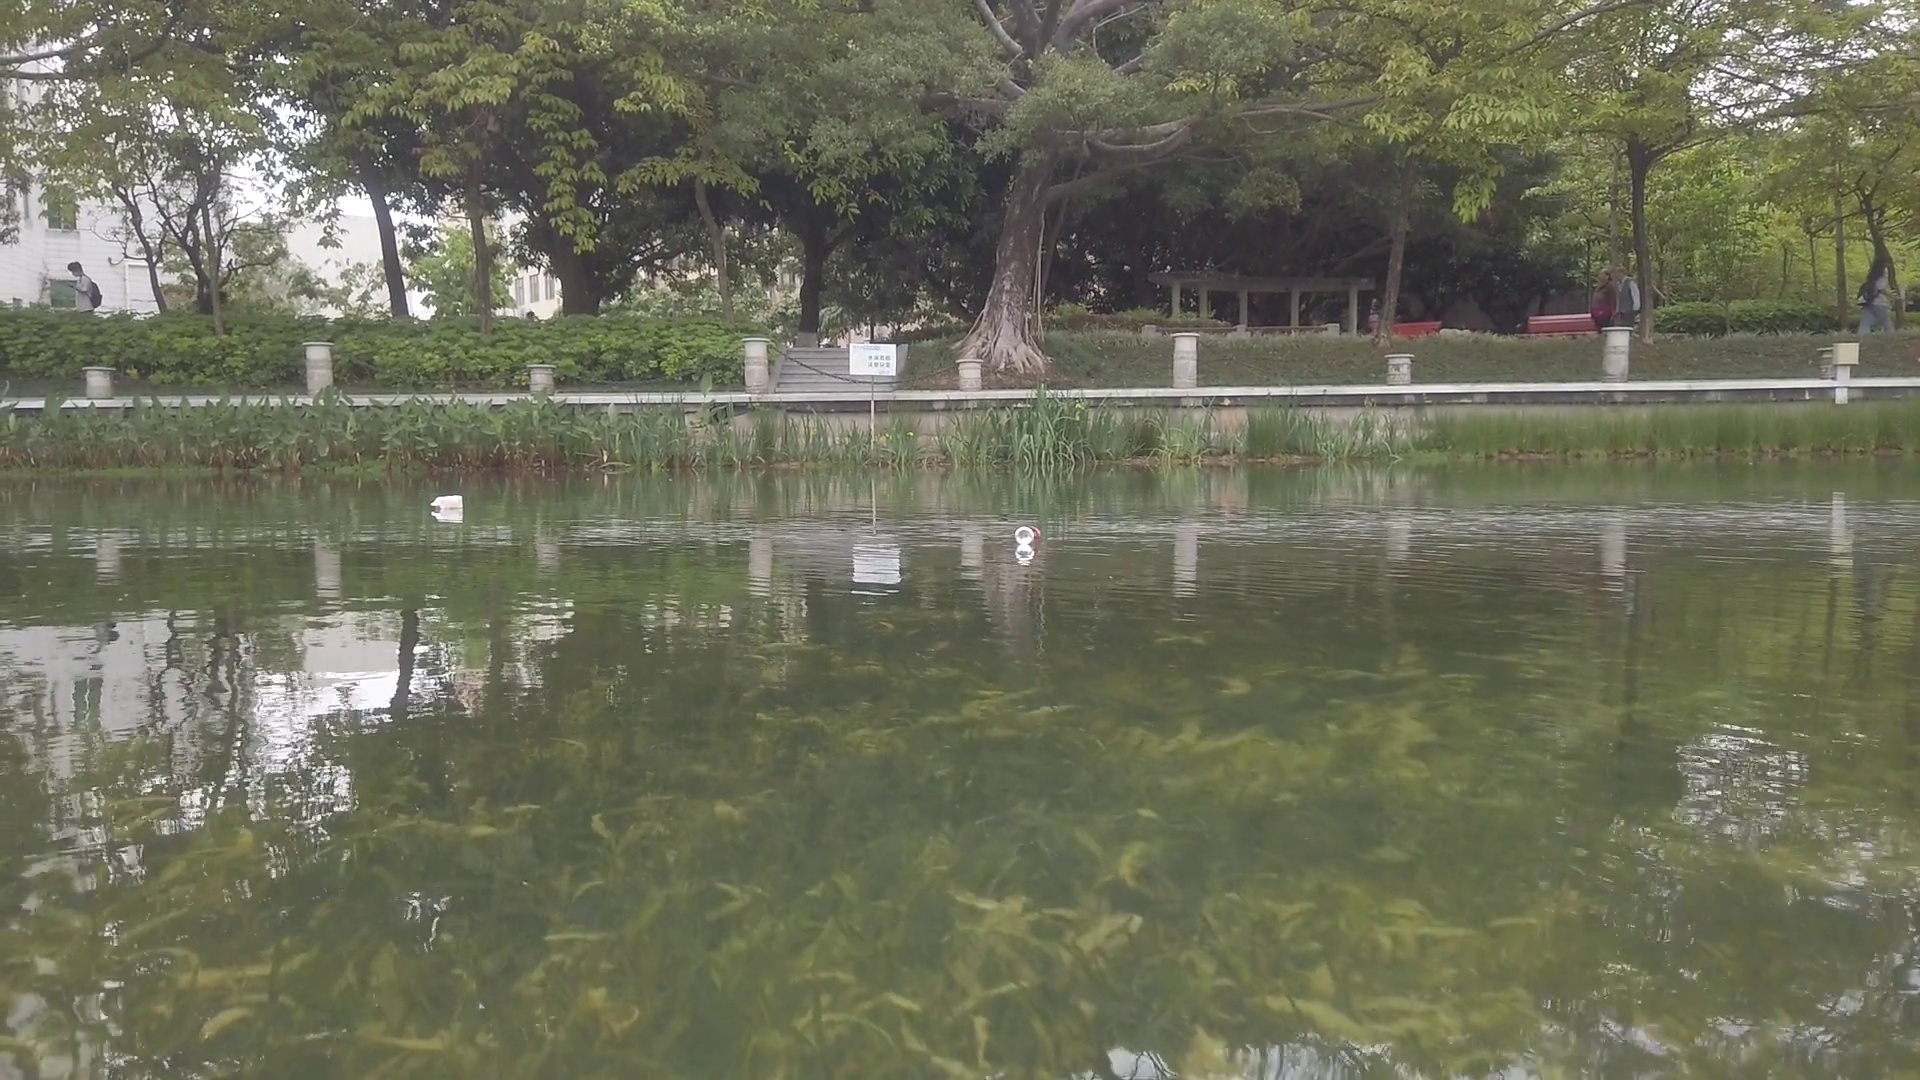bottle: (1015, 524, 1043, 547)
carton: (430, 493, 465, 512)
